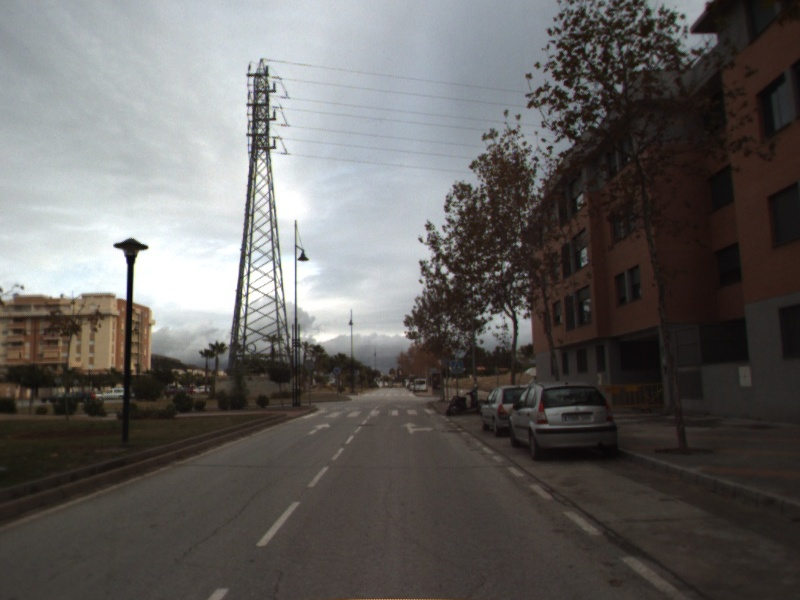STRAIGHT: (306, 420, 333, 437)
STRAIGHT_RIGHT: (399, 420, 436, 435)
